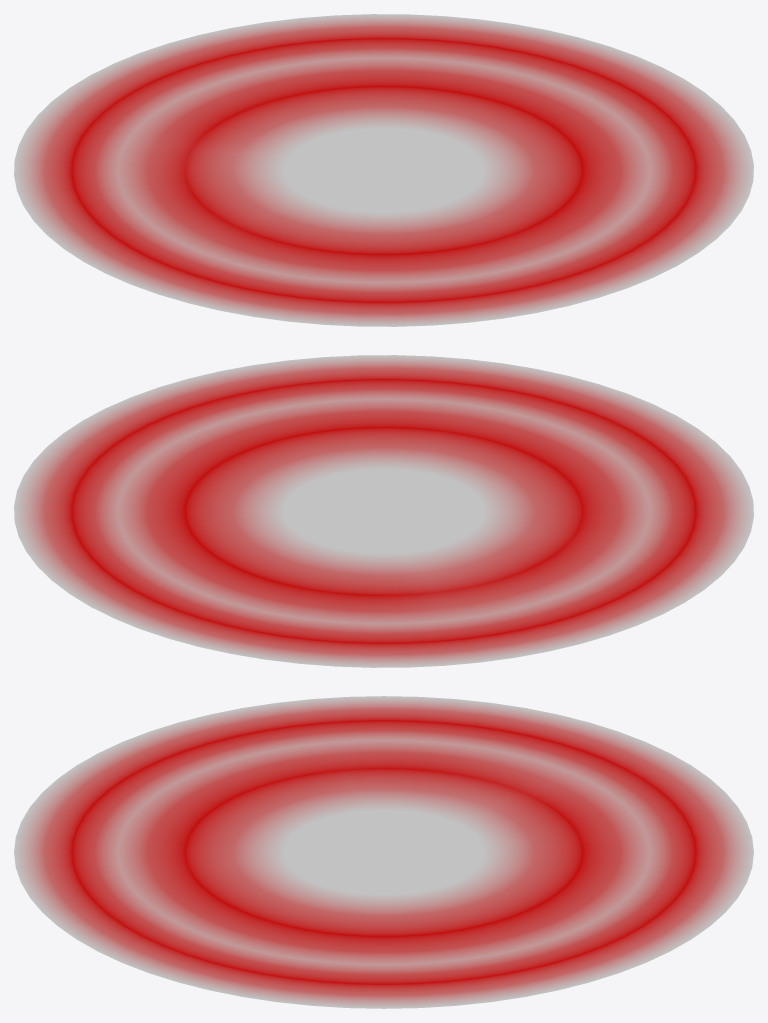
File: SM_UVDisk_Low.fbx
3 views of the same model, one above another, from view 1: azimuth 30°, elevation 25°; view 2: azimuth 150°, elevation 25°; view 3: azimuth 270°, elevation 25° (orthographic).
Parts seen in each view (by area): view 1: Cylinder; view 2: Cylinder; view 3: Cylinder.
Boxes of the visible parts, left/top/right/bottom form: Cylinder: left=14, top=14, right=753, bottom=326; Cylinder: left=14, top=355, right=753, bottom=667; Cylinder: left=14, top=696, right=753, bottom=1008.
Bounding box in the file's own units: 1.99 × 0 × 1.99.
